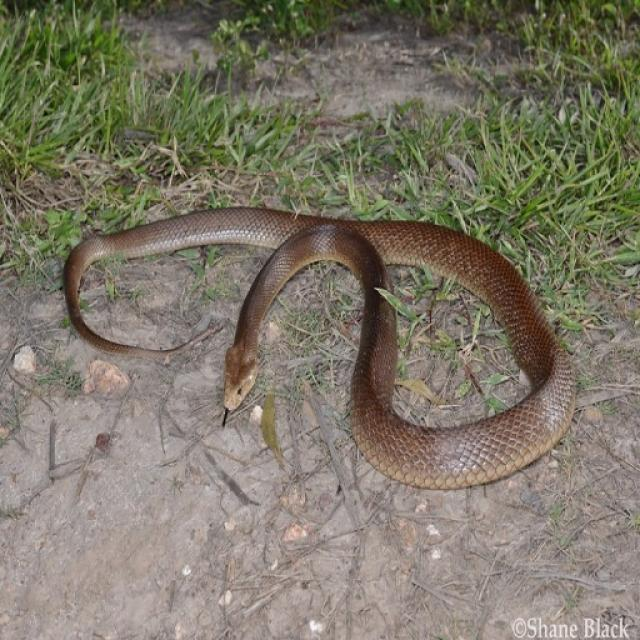snake: (48, 193, 576, 497)
